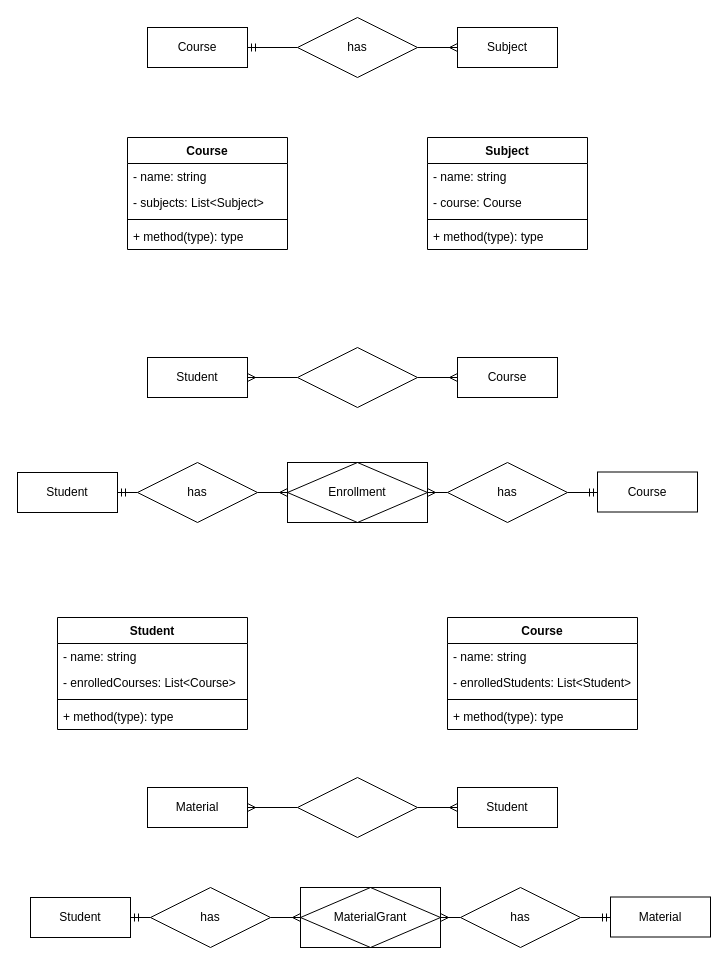
The diagram is 728 pixels wide and 965 high, and some of its shapes have lost their labels. The shapes that lost their labels are listed below. From the top down, each one's centre as x and y in pixels, then its label:
(357,377): enrolls for
(357,807): is granted to
